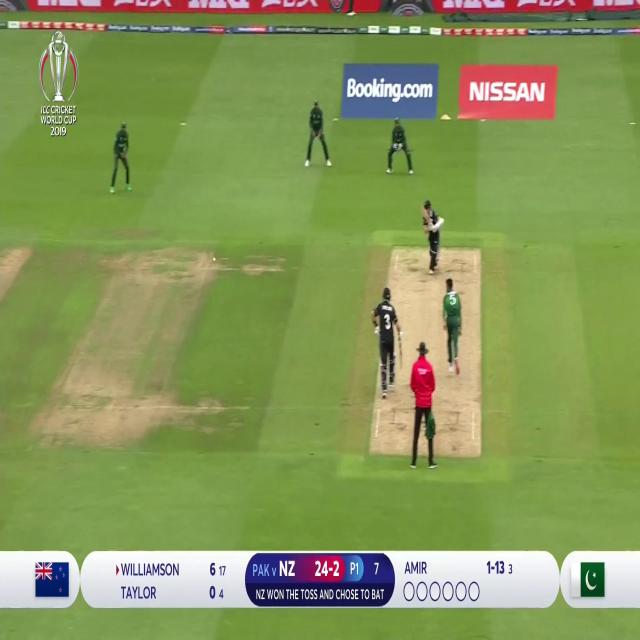bat: (397, 331, 403, 369), (419, 206, 430, 226)
